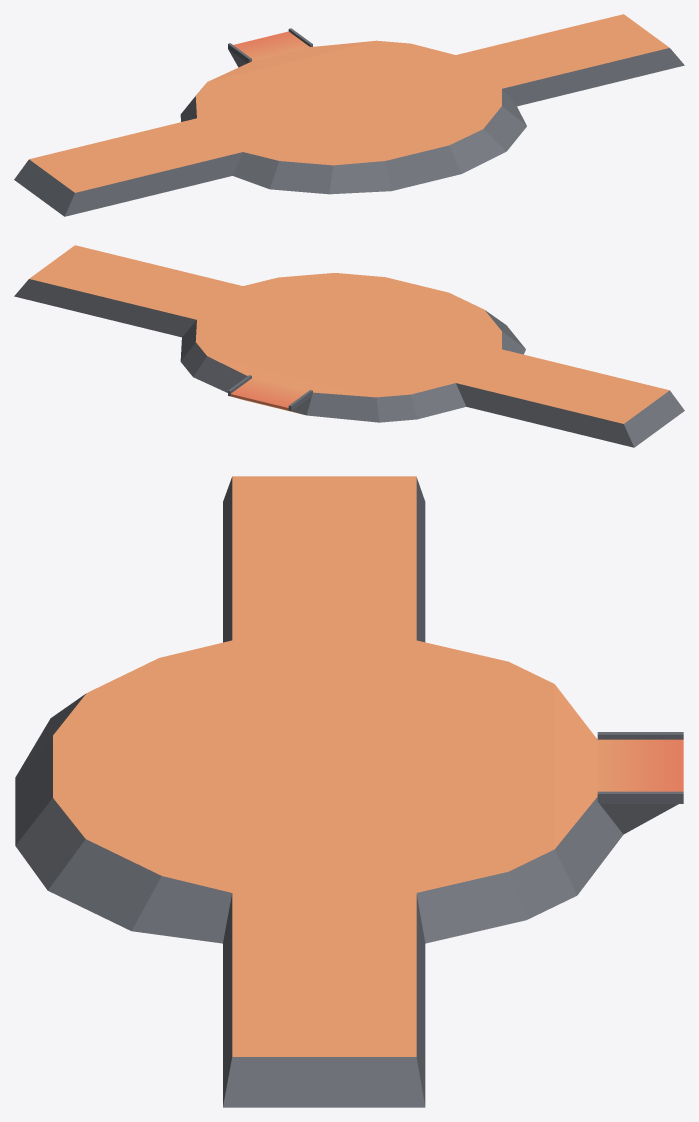
The model's file is levelen5.fbx.
The picture shows the model from 3 angles, top to bottom: view 1: azimuth 30°, elevation 25°; view 2: azimuth 150°, elevation 25°; view 3: azimuth 270°, elevation 25°; orthographic projection. The views are drawn at different scales.
Parts seen in each view (by area): view 1: road.005; view 2: road.005; view 3: road.005.
Boxes of the visible parts, x1,y1,x2,y2 form: road.005: (14, 14, 684, 216); road.005: (14, 245, 684, 447); road.005: (15, 476, 683, 1107).
Bounding box in the file's own units: 62.67 × 2.35 × 29.23.
